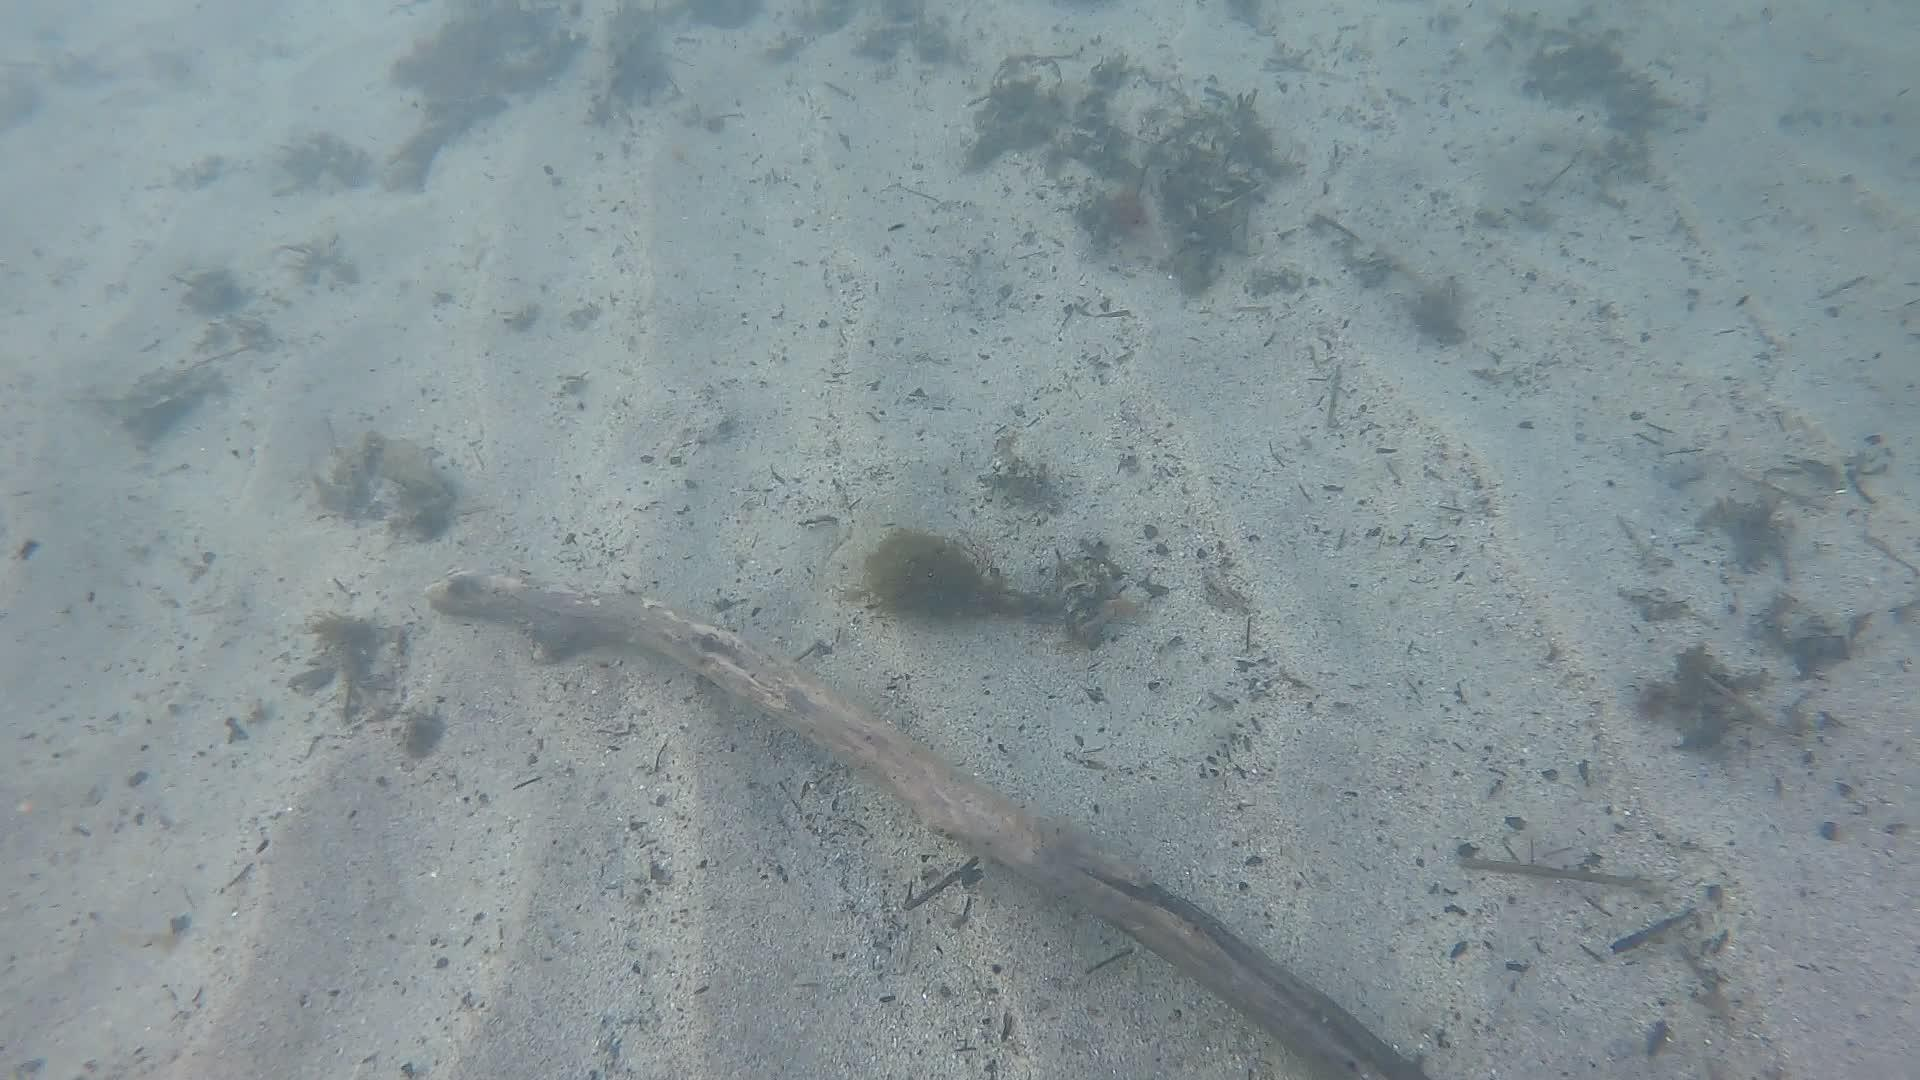wood: (431, 568, 1420, 1080)
